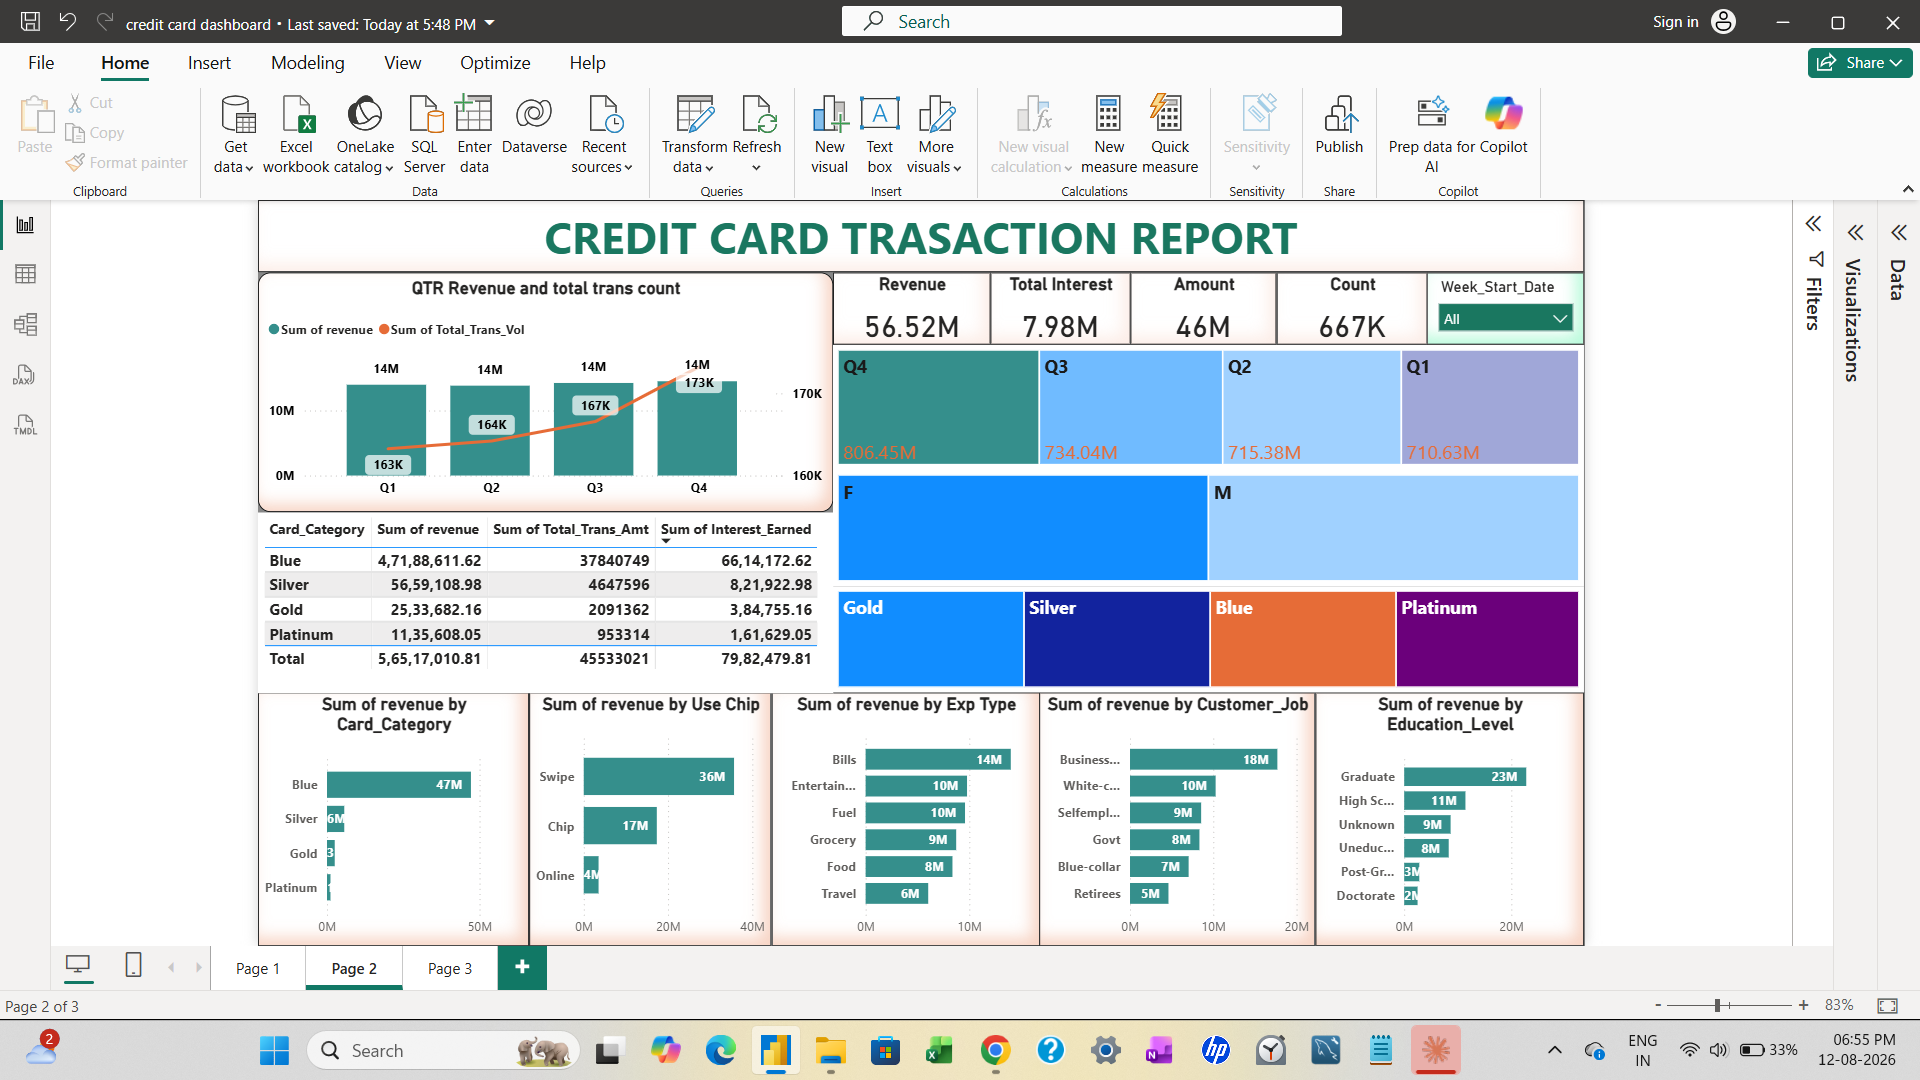

The dashboard page shown, as its layout file describes it:
{"tool":"powerbi","page":{"name":"Page 2","canvas":[1280,720],"ordinal":1},"visuals":[{"type":"textbox","box":[0,0,1280.3,69.9],"z":0},{"type":"barChart","fields":{"Y":["Sum(creditcard_details.revenue)"],"Category":["creditcard_details.Exp Type"]},"box":[495.3,475,259.1,245.1],"z":1000},{"type":"barChart","fields":{"Y":["Sum(creditcard_details.revenue)"],"Category":["customer_details.Customer_Job"]},"box":[754.4,475,266.7,245.1],"z":2000},{"type":"barChart","fields":{"Y":["Sum(creditcard_details.revenue)"],"Category":["customer_details.Education_Level"]},"box":[1021.2,475,259.1,245.1],"z":3000},{"type":"barChart","fields":{"Y":["Sum(creditcard_details.revenue)"],"Category":["creditcard_details.Card_Category"]},"box":[0,475,261.6,245.1],"z":4000},{"type":"barChart","fields":{"Y":["Sum(creditcard_details.revenue)"],"Category":["creditcard_details.Use Chip"]},"box":[261.6,475,233.7,245.1],"z":5000},{"type":"tableEx","fields":{"Values":["creditcard_details.Card_Category","Sum(creditcard_details.revenue)","Sum(creditcard_details.Total_Trans_Amt)","Sum(creditcard_details.Interest_Earned)"]},"box":[0,301,555,174],"z":6000},{"type":"card","title":"Revenue","fields":{"Values":["Sum(creditcard_details.revenue)"]},"box":[555,70,152,70],"z":7000},{"type":"card","title":"Total Interest","fields":{"Values":["Sum(creditcard_details.Interest_Earned)"]},"box":[707,70,135.1,70],"z":8000},{"type":"card","title":"Amount","fields":{"Values":["Sum(creditcard_details.Total_Trans_Amt)"]},"box":[842.1,70,141.2,70],"z":9000},{"type":"card","title":"Count","fields":{"Values":["Sum(creditcard_details.Total_Trans_Vol)"]},"box":[983.2,70,146,70],"z":10000},{"type":"lineStackedColumnComboChart","title":"QTR Revenue and total trans count","fields":{"Y":["Sum(creditcard_details.revenue)"],"Category":["creditcard_details.Qtr"],"Y2":["Sum(creditcard_details.Total_Trans_Vol)"]},"box":[0,69.9,555,231.2],"z":11000},{"type":"slicer","fields":{"Values":["creditcard_details.Week_Start_Date"]},"box":[1128,70,152,70],"z":12000},{"type":"treemap","fields":{"Values":["Avg(creditcard_details.ï»¿Client_Num)"],"Group":["creditcard_details.Qtr"]},"box":[555,139.9,725.1,120.6],"z":13000},{"type":"treemap","fields":{"Group":["customer_details.Gender"],"Values":["Avg(customer_details.ï»¿Client_Num)"]},"box":[555,260.6,725.1,112.2],"z":14000},{"type":"treemap","fields":{"Group":["creditcard_details.Card_Category"],"Values":["Avg(creditcard_details.ï»¿Client_Num)"]},"box":[555,372.8,725.1,102.5],"z":15000}]}

Visuals, with their boxes on the page's 1280x720 design canvas (x1, y1, x2, y2). These are canvas units, not pixel positions in the 1920x1080 screenshot, which may show the page scaled, cropped or inside an application window:
textbox: Rect(0, 0, 1280, 70)
barChart - Sum(creditcard_details.revenue) x creditcard_details.Exp Type: Rect(495, 475, 754, 720)
barChart - Sum(creditcard_details.revenue) x customer_details.Customer_Job: Rect(754, 475, 1021, 720)
barChart - Sum(creditcard_details.revenue) x customer_details.Education_Level: Rect(1021, 475, 1280, 720)
barChart - Sum(creditcard_details.revenue) x creditcard_details.Card_Category: Rect(0, 475, 262, 720)
barChart - Sum(creditcard_details.revenue) x creditcard_details.Use Chip: Rect(262, 475, 495, 720)
tableEx - creditcard_details.Card_Category x Sum(creditcard_details.revenue): Rect(0, 301, 555, 475)
"Revenue" card: Rect(555, 70, 707, 140)
"Total Interest" card: Rect(707, 70, 842, 140)
"Amount" card: Rect(842, 70, 983, 140)
"Count" card: Rect(983, 70, 1129, 140)
"QTR Revenue and total trans count" lineStackedColumnComboChart: Rect(0, 70, 555, 301)
slicer - creditcard_details.Week_Start_Date: Rect(1128, 70, 1280, 140)
treemap - Avg(creditcard_details.ï»¿Client_Num) x creditcard_details.Qtr: Rect(555, 140, 1280, 260)
treemap - customer_details.Gender x Avg(customer_details.ï»¿Client_Num): Rect(555, 261, 1280, 373)
treemap - creditcard_details.Card_Category x Avg(creditcard_details.ï»¿Client_Num): Rect(555, 373, 1280, 475)
